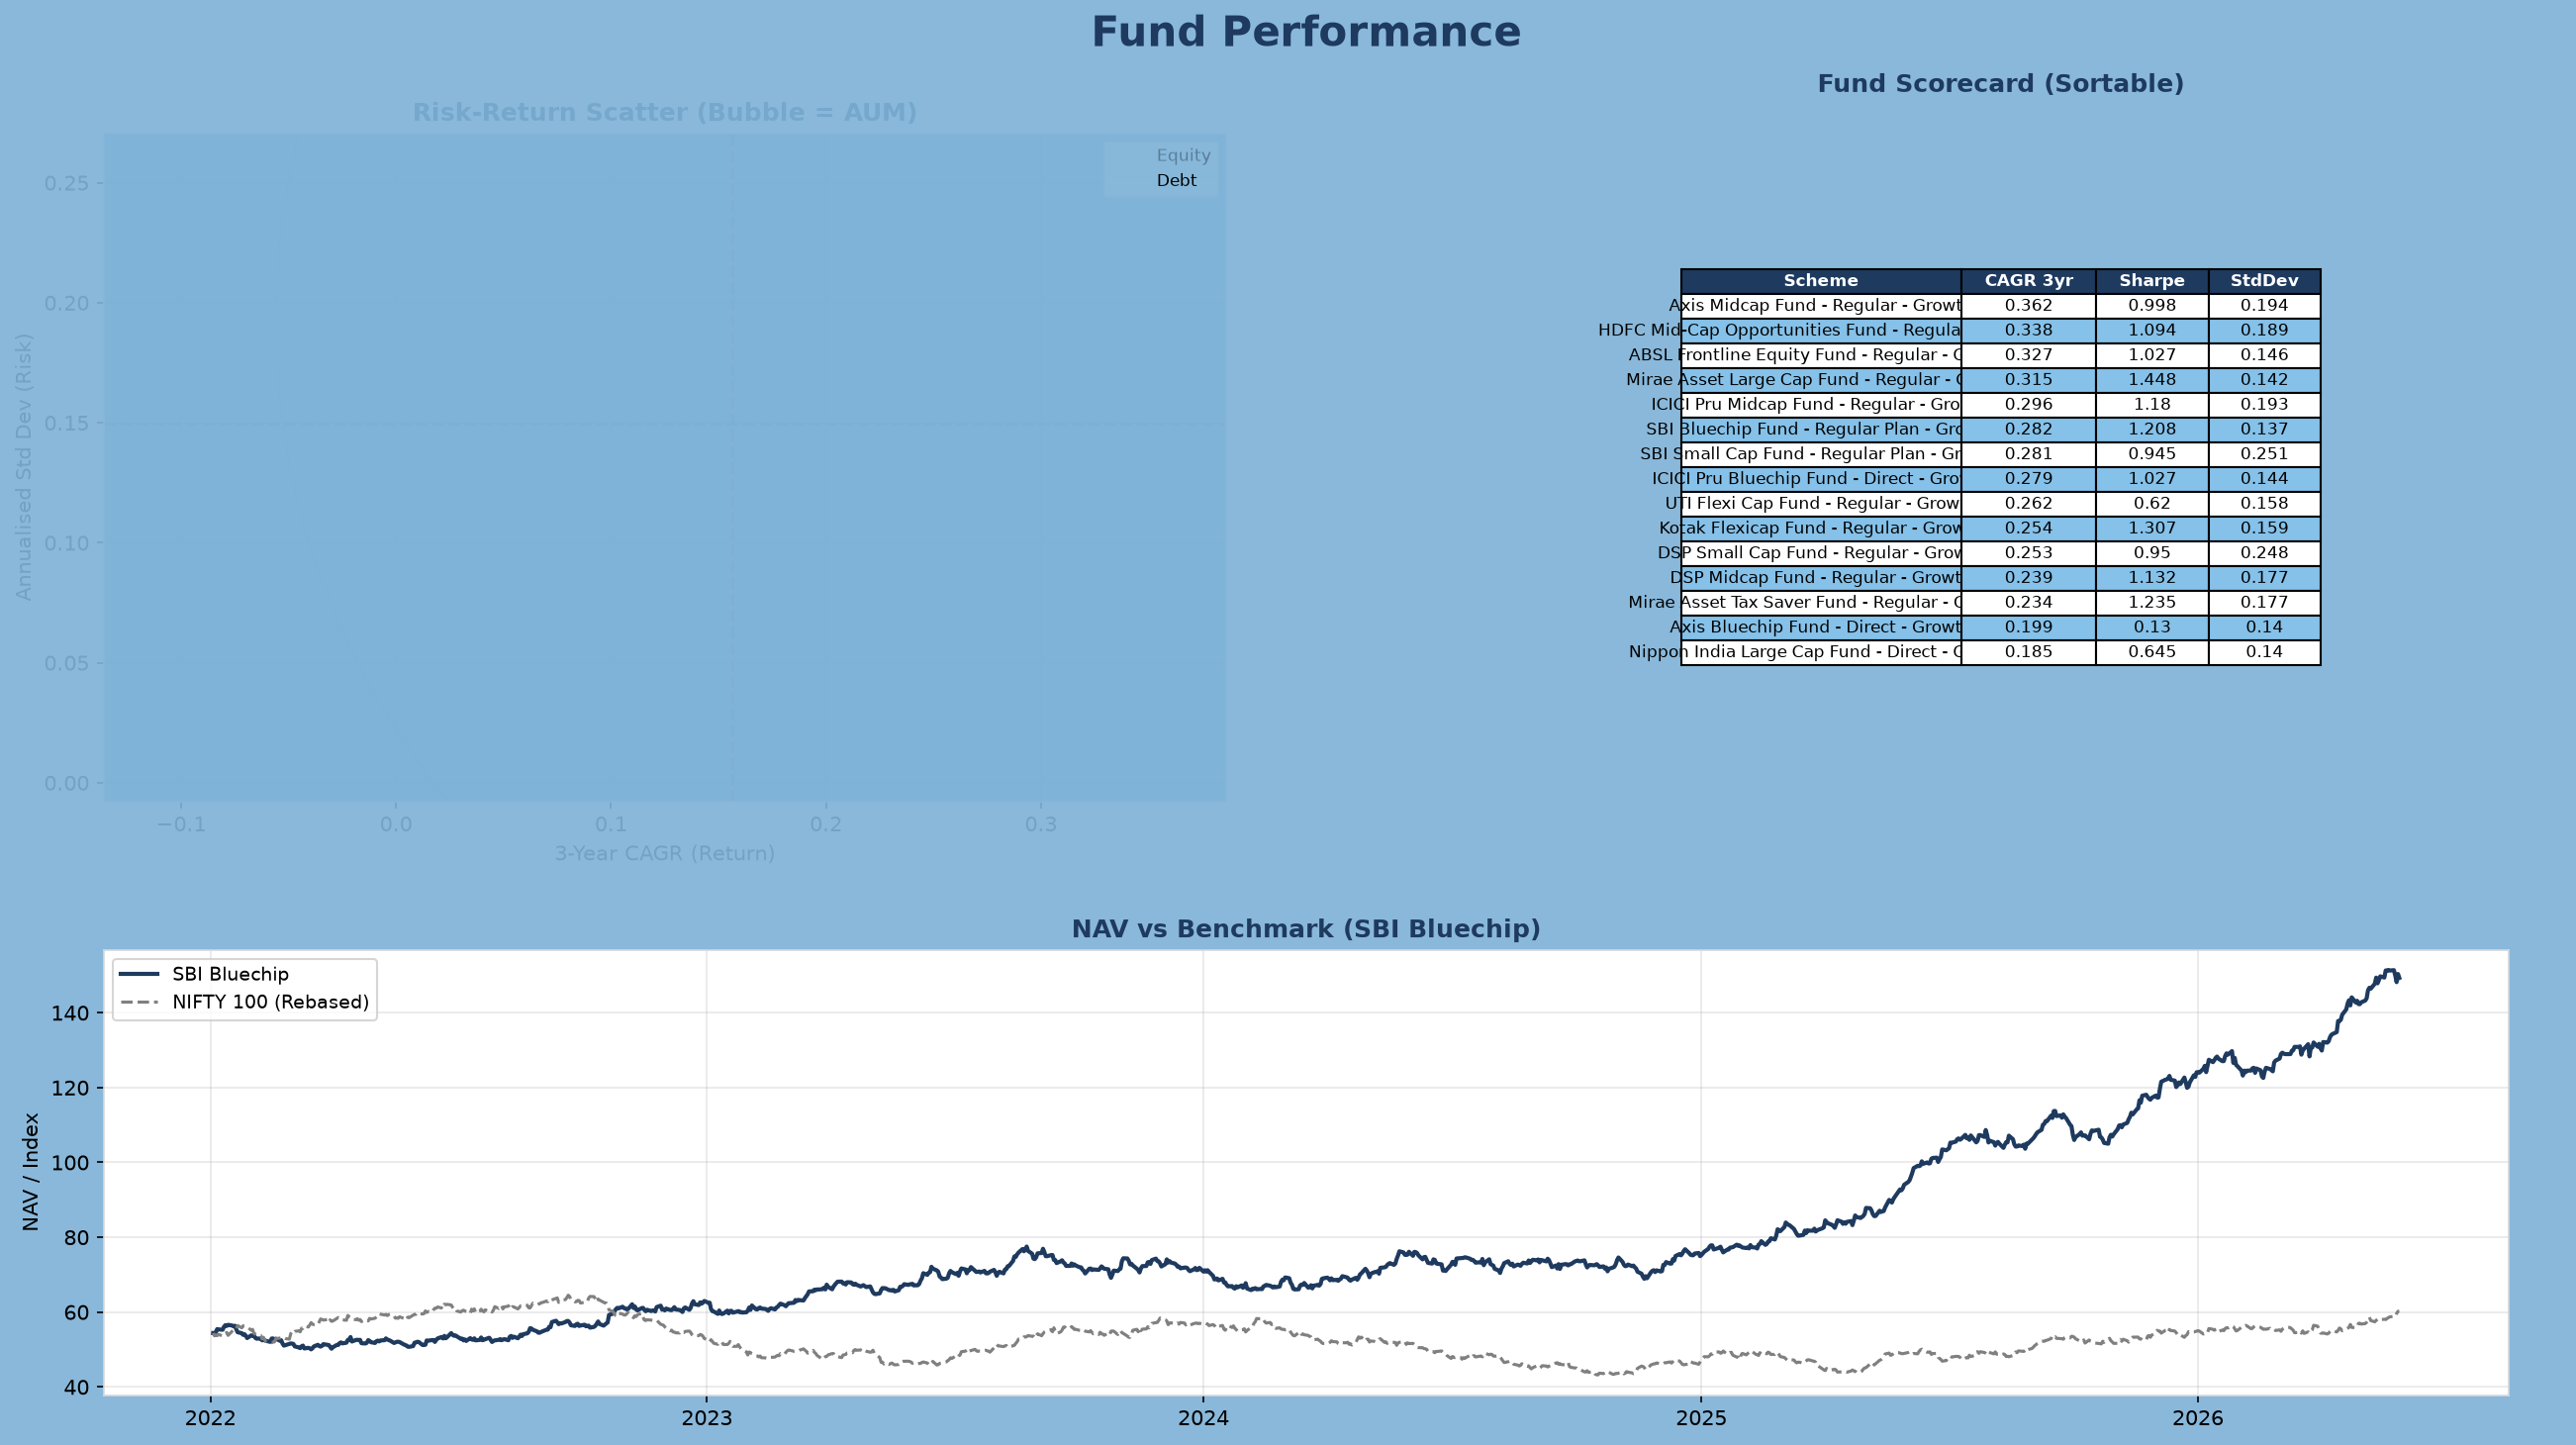

The page's visual inventory and layout, read from the dashboard file:
{"tool":"powerbi","page":{"name":"Fund Performance","canvas":[1280,720],"ordinal":1},"visuals":[{"type":"scatterChart","fields":{"X":["fund_scorecard_pbi.CAGR_3yr"],"Y":["fund_scorecard_pbi.StdDev_ann"],"Size":["Sum(fund_scorecard_pbi.AUM_crore)"],"Series":["dim_fund.category"]},"box":[0.4,-0.7,400.7,396.6],"z":0},{"type":"lineChart","fields":{"Category":["dim_date.full_date.Variation.Date Hierarchy.Year","dim_date.full_date.Variation.Date Hierarchy.Quarter","dim_date.full_date.Variation.Date Hierarchy.Month","dim_date.full_date.Variation.Date Hierarchy.Day"],"Y":["Avg(fact_nav.nav)"]},"box":[400.7,0,447.3,395.2],"z":1000},{"type":"tableEx","fields":{"Values":["dim_fund.scheme_name"]},"box":[832.9,0,137.2,708.1],"z":2000},{"type":"slicer","fields":{"Values":["dim_fund.fund_house"]},"box":[993.5,9.6,286.8,314.2],"z":3000},{"type":"slicer","fields":{"Values":["dim_fund.category"]},"box":[959.2,444.6,321.1,111.1],"z":4000},{"type":"slicer","fields":{"Values":["dim_fund.plan_type"]},"box":[972.9,347.2,307.4,97.4],"z":5000},{"type":"tableEx","fields":{"Values":["dim_fund.scheme_name","fund_scorecard_pbi.CAGR_3yr","fund_scorecard_pbi.Sharpe","fund_scorecard_pbi.StdDev_ann","fund_scorecard_pbi.Max_DD","fund_scorecard_pbi.AUM_crore"]},"box":[0,395.2,624.4,296.4],"z":5001}]}

Visuals, with their boxes in screenshot pixels (x1, y1, x2, y2), scaled from the page's 1280x720 canvas onto the 2576x1445 screenshot:
scatterChart - fund_scorecard_pbi.CAGR_3yr x fund_scorecard_pbi.StdDev_ann: box(1, 0, 808, 795)
lineChart - dim_date.full_date.Variation.Date Hierarchy.Year x dim_date.full_date.Variation.Date Hierarchy.Quarter: box(807, 0, 1706, 793)
tableEx - dim_fund.scheme_name: box(1676, 0, 1953, 1421)
slicer - dim_fund.fund_house: box(1999, 19, 2575, 650)
slicer - dim_fund.category: box(1931, 893, 2575, 1115)
slicer - dim_fund.plan_type: box(1957, 697, 2575, 893)
tableEx - dim_fund.scheme_name x fund_scorecard_pbi.CAGR_3yr: box(0, 793, 1257, 1388)
